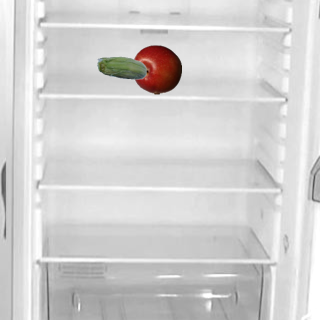Apple Braeburn: (131, 44, 181, 94)
Corn Husk: (96, 44, 146, 94)
